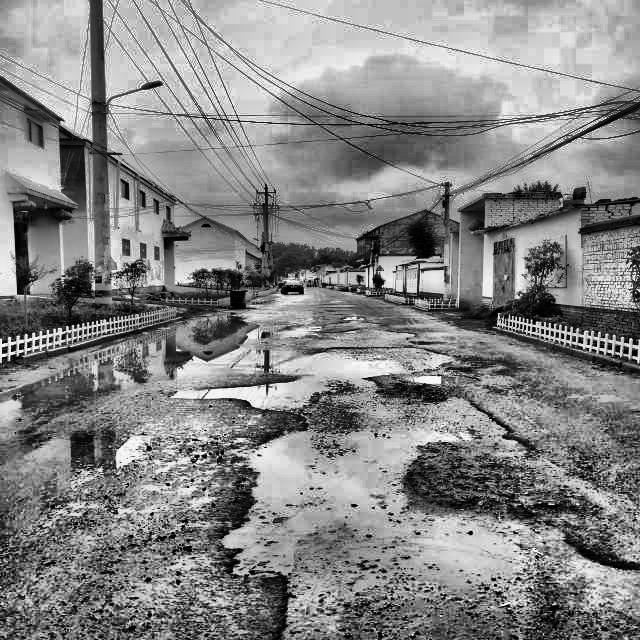buraco: (196, 436, 640, 640), (166, 348, 492, 431), (342, 311, 374, 324)
